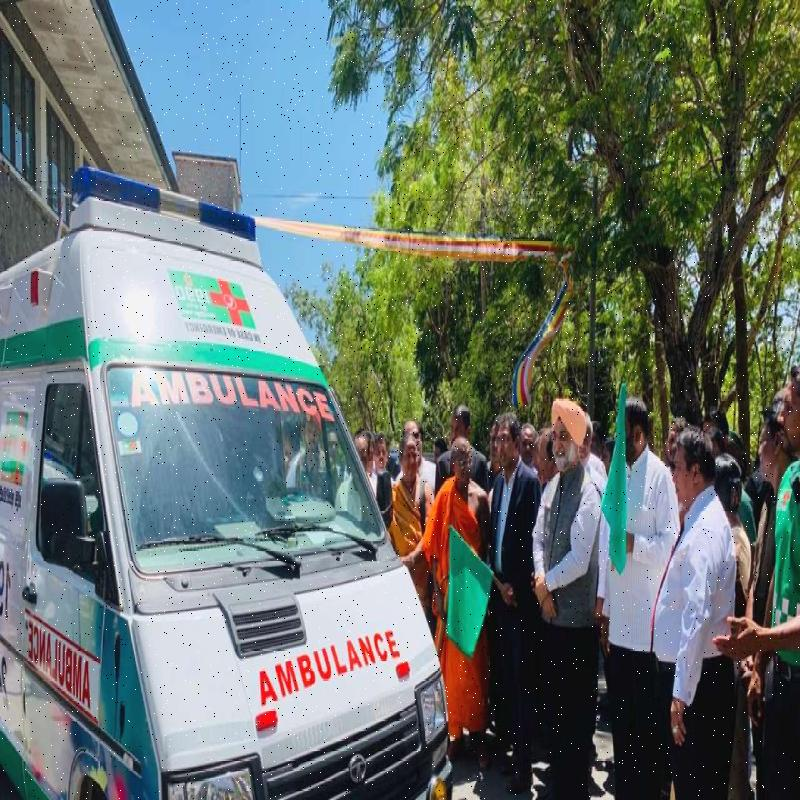AmbulanceSiren: (71, 169, 267, 245)
ambulance: (3, 149, 465, 798)
